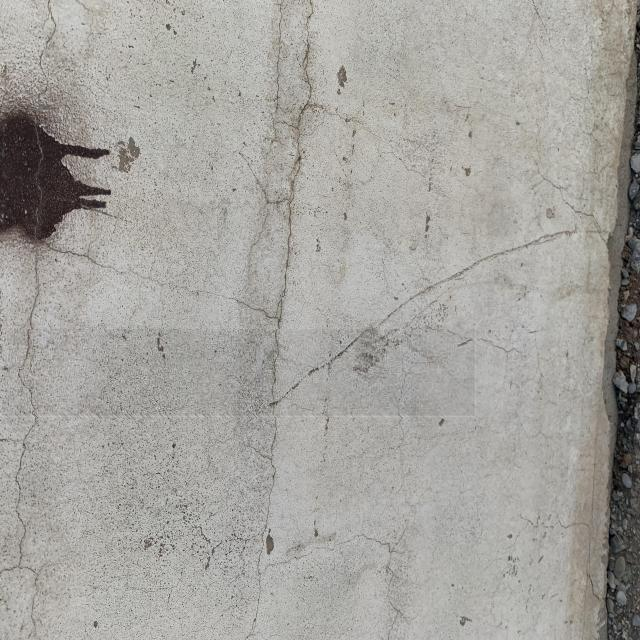diagonal crack: (270, 212, 616, 417), (49, 232, 267, 329)
multi-branched crack: (0, 1, 634, 640)
vertical crack: (0, 0, 86, 640), (257, 0, 314, 640)
